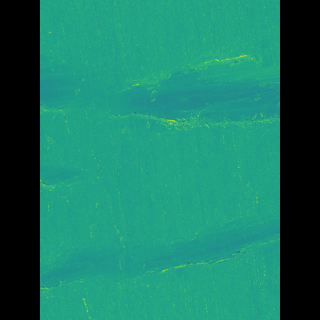Loch: (69, 208, 249, 319), (69, 31, 250, 134), (69, 158, 111, 191)
